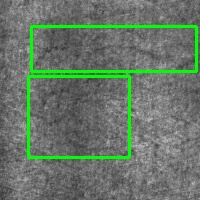crazing: (28, 76, 129, 157), (31, 26, 196, 71)
